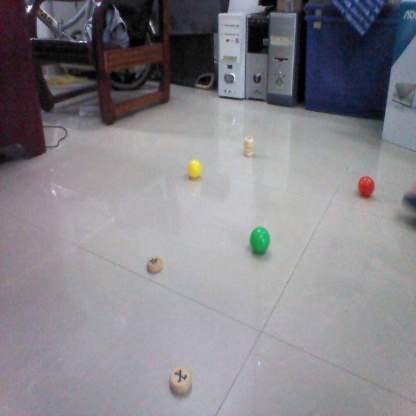ball: (248, 226, 273, 256), (354, 173, 377, 198), (186, 159, 205, 181)
chess: (167, 368, 194, 394), (239, 136, 260, 162), (147, 257, 165, 275)
